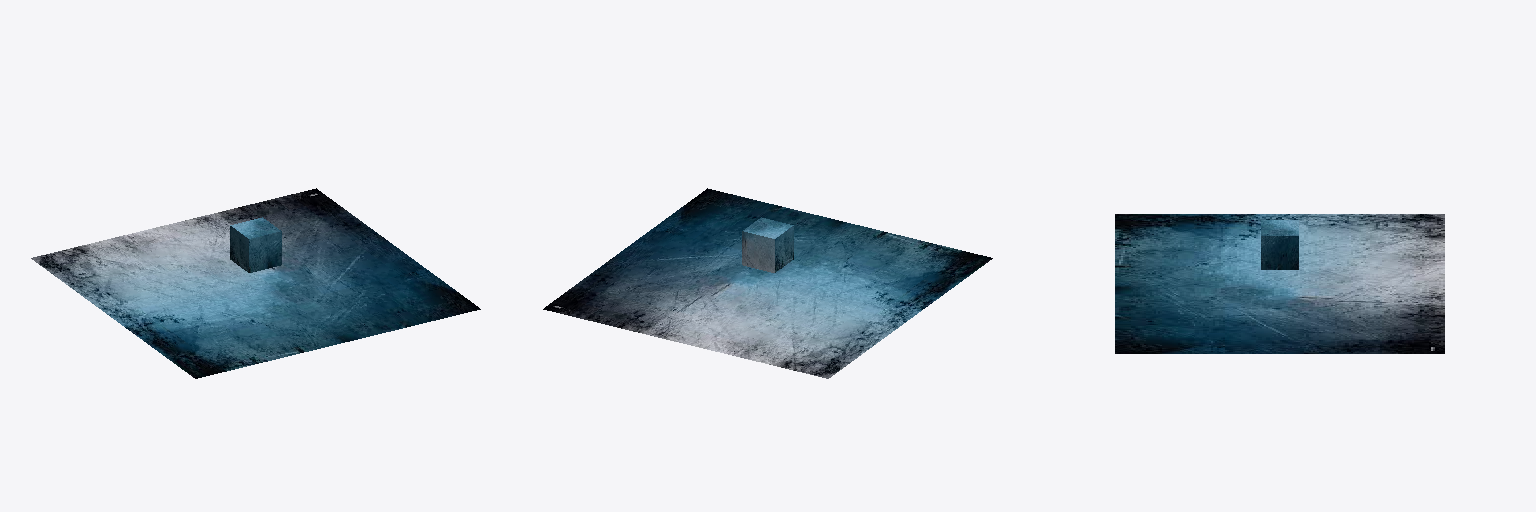
3 views of the same model, side by side, from view 1: azimuth 30°, elevation 25°; view 2: azimuth 150°, elevation 25°; view 3: azimuth 270°, elevation 25° (orthographic).
Parts seen in each view (by area): view 1: pPlane1, pCube1; view 2: pPlane1, pCube1; view 3: pPlane1, pCube1.
Part boxes in pixels (left/top/right/bottom): pPlane1: left=31, top=188, right=480, bottom=378; pCube1: left=230, top=217, right=281, bottom=272; pPlane1: left=543, top=188, right=992, bottom=378; pCube1: left=742, top=217, right=793, bottom=272; pPlane1: left=1115, top=214, right=1444, bottom=353; pCube1: left=1261, top=220, right=1298, bottom=269.
Bounding box in the file's own units: 8.75 × 1.62 × 8.75.
Materials: 1 (1 with a texture image).